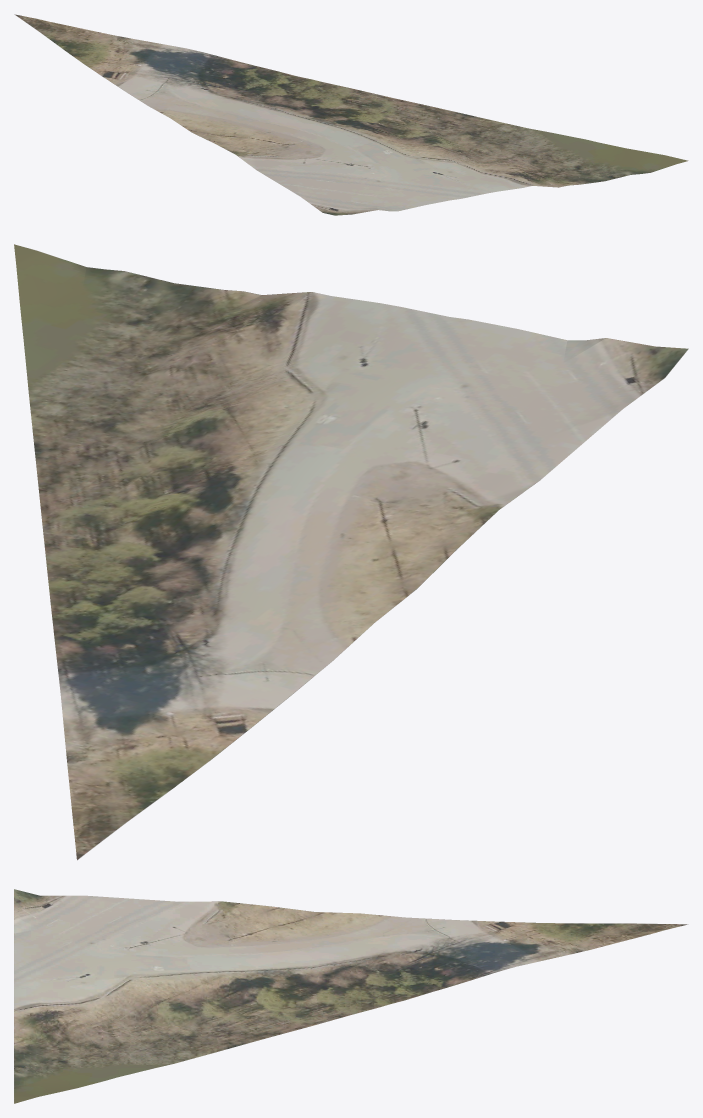
File: CM_Terrain_24492302_6819180.fbx
3 views of the same model, one above another, from view 1: azimuth 30°, elevation 25°; view 2: azimuth 150°, elevation 25°; view 3: azimuth 270°, elevation 25° (orthographic). The views are drawn at different scales.
Parts seen in each view (by area): view 1: CM_Terrain_24492302_6819180_LOD0; view 2: CM_Terrain_24492302_6819180_LOD0; view 3: CM_Terrain_24492302_6819180_LOD0.
Part boxes in pixels (bbox=[...]): CM_Terrain_24492302_6819180_LOD0: bbox=[14, 14, 688, 215]; CM_Terrain_24492302_6819180_LOD0: bbox=[14, 244, 688, 860]; CM_Terrain_24492302_6819180_LOD0: bbox=[14, 889, 688, 1103].
Size of what is drawn, in the model's own units: 70.39 by 6.55 by 111.
